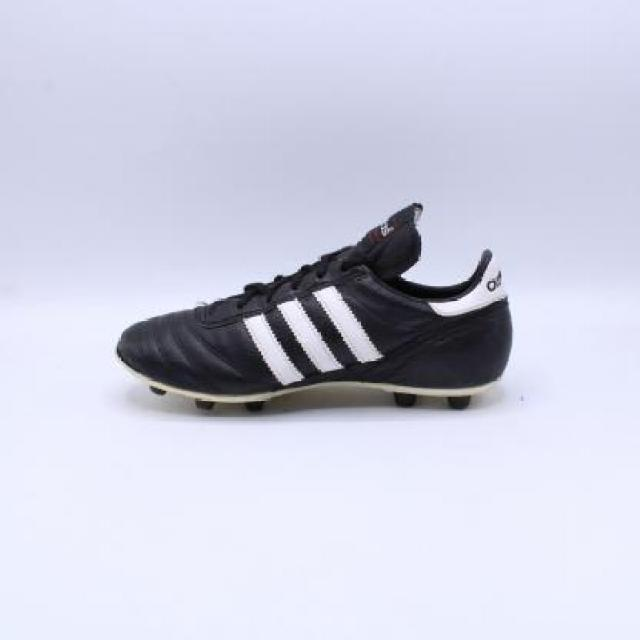Adidas: (234, 283, 385, 388)
